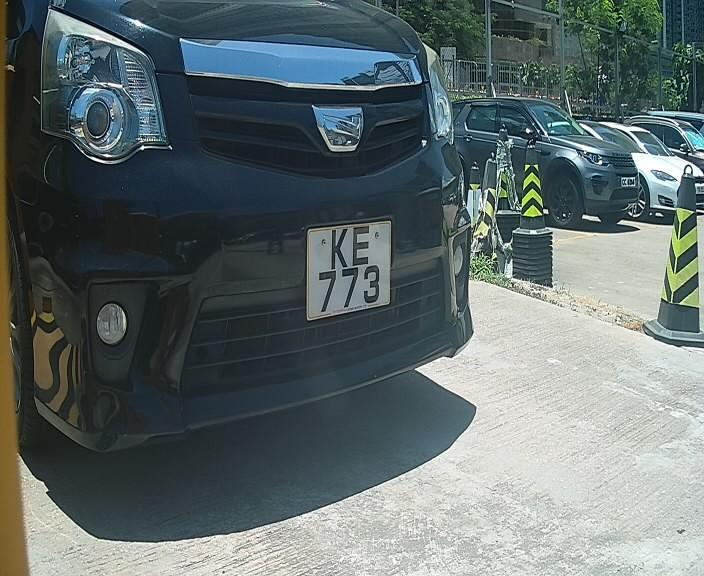privatecar: (1, 6, 507, 474)
